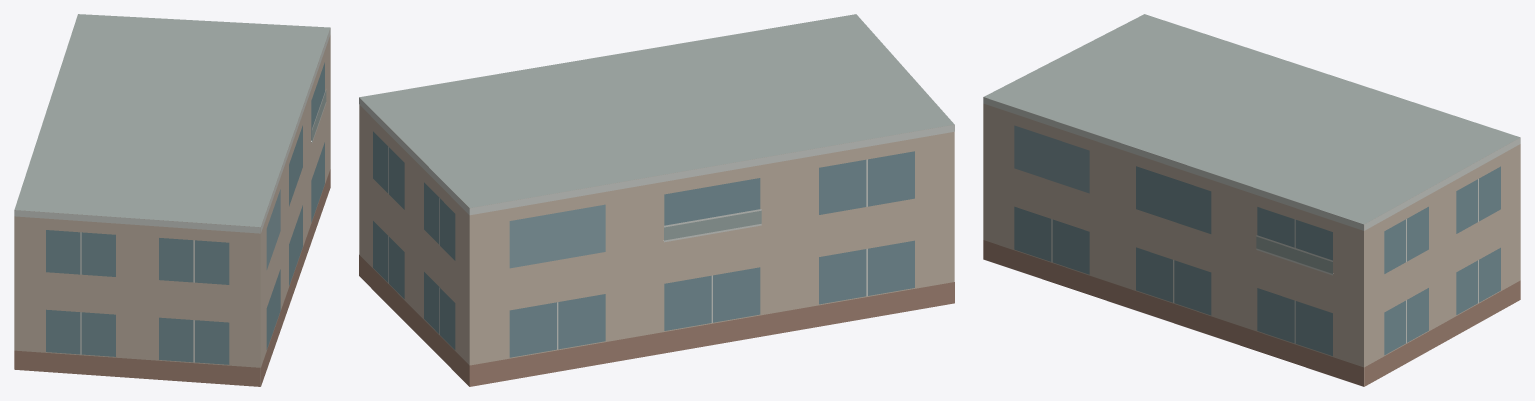
Rendered from survey-upis-32888592.glb.
3 views of the same model, side by side, from view 1: azimuth 30°, elevation 25°; view 2: azimuth 150°, elevation 25°; view 3: azimuth 270°, elevation 25° (orthographic). The views are drawn at different scales.
Parts seen in each view (by area): view 1: survey-upis-32888592.tmp; view 2: survey-upis-32888592.tmp; view 3: survey-upis-32888592.tmp.
Part boxes in pixels (bbox=[...]): survey-upis-32888592.tmp: bbox=[14, 14, 330, 386]; survey-upis-32888592.tmp: bbox=[359, 14, 954, 386]; survey-upis-32888592.tmp: bbox=[983, 14, 1520, 386].
Bounding box in the file's own units: 16.97 × 6.1 × 18.3.
